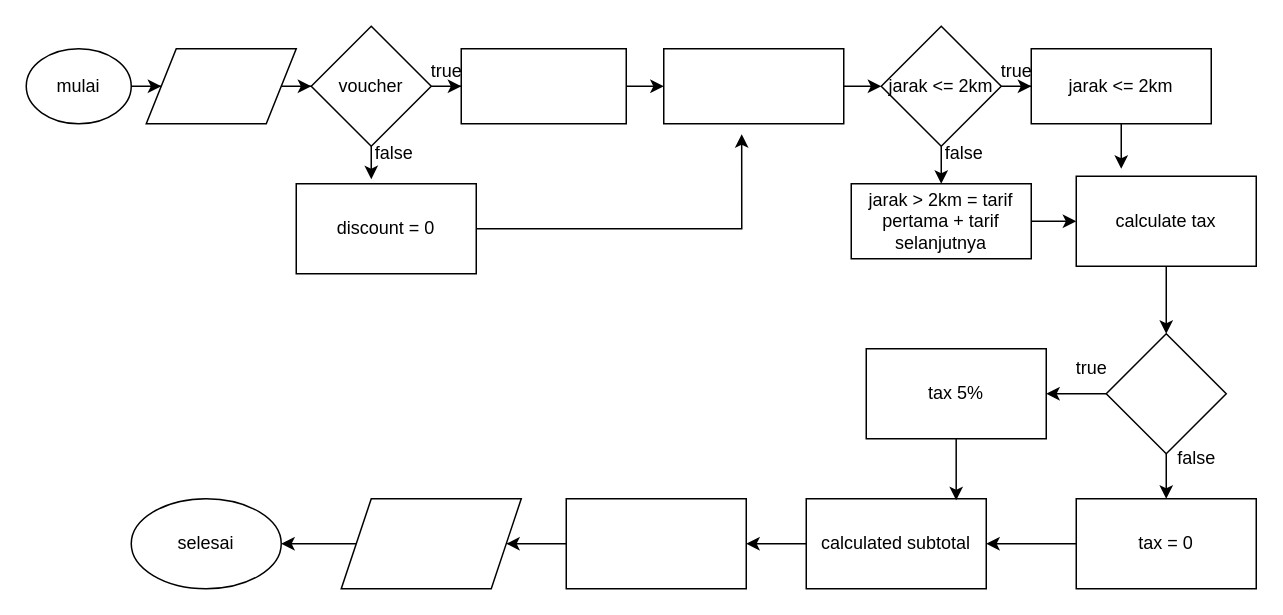
Image size: 1283x615. Some labels were removed from this diagram. Here are the shapes that lost their labels. From the top down, the centre of each, then its label:
(x=220, y=85): input
(x=543, y=85): calculated discount
(x=753, y=85): calculated delivery cost
(x=1165, y=393): tax
(x=430, y=543): output
(x=655, y=543): print result
